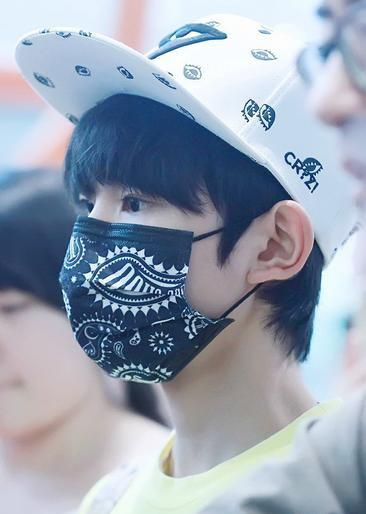NONE: (1, 287, 88, 431)
OK: (67, 181, 265, 379)
